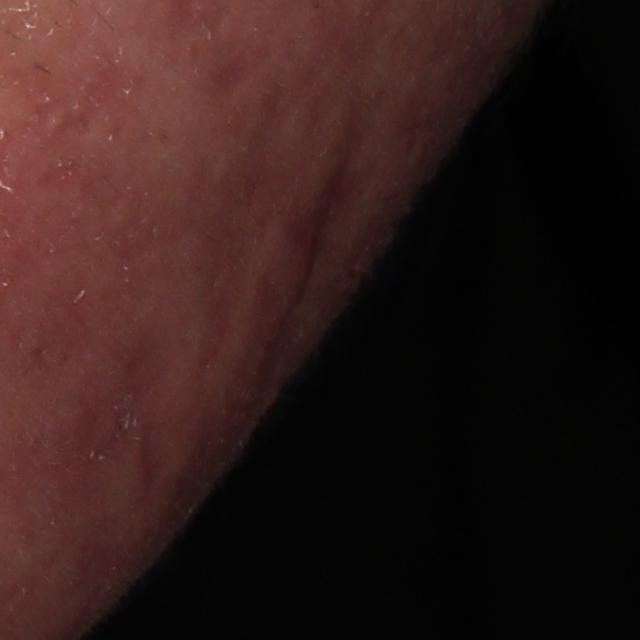atrophic_scar: (65, 326, 165, 509), (191, 46, 260, 104)
nodule: (217, 88, 353, 423)
